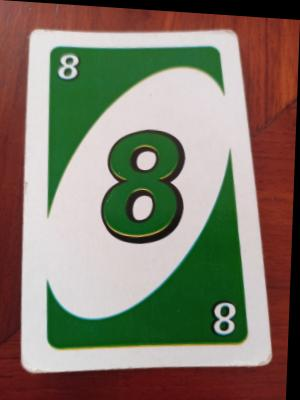green: (32, 44, 239, 347)
num_8: (208, 291, 247, 336), (52, 48, 87, 84)
